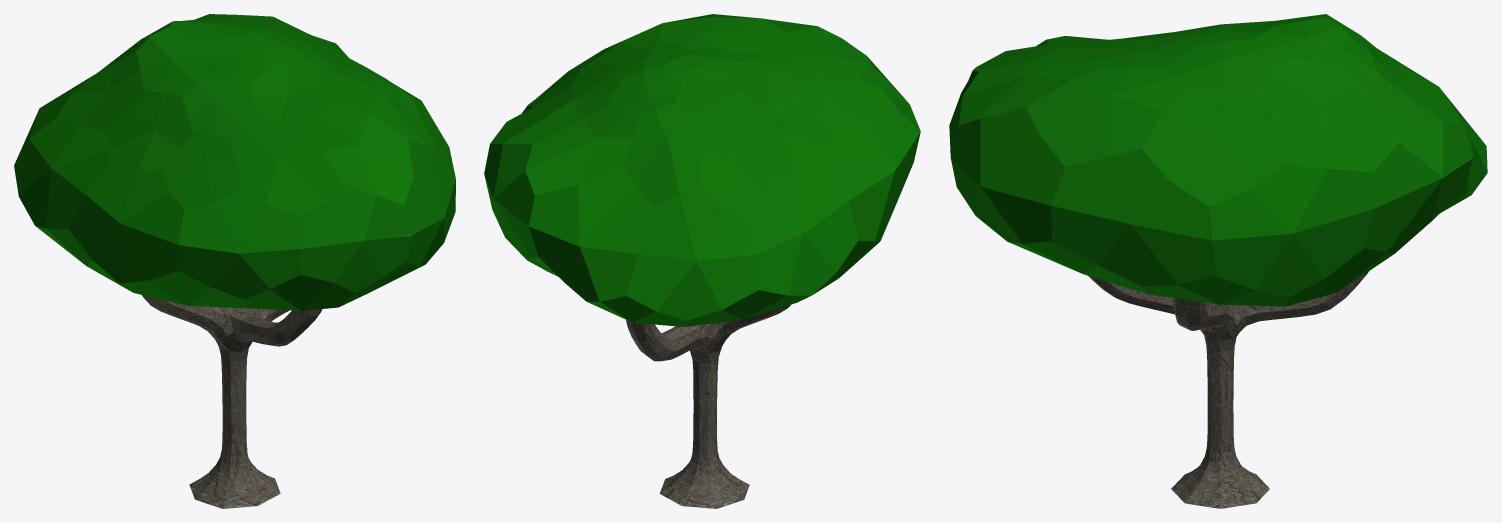
File: GreenTree.fbx
3 renders of one model, left to right at view 1: azimuth 30°, elevation 25°; view 2: azimuth 150°, elevation 25°; view 3: azimuth 270°, elevation 25°, orthographic. The views are drawn at different scales.
Visible parts, largest first — view 1: GreenTree; view 2: GreenTree; view 3: GreenTree.
Part boxes in pixels (bbox=[...]): GreenTree: bbox=[14, 14, 455, 508]; GreenTree: bbox=[484, 14, 920, 508]; GreenTree: bbox=[949, 14, 1487, 508].
Bounding box in the file's own units: 799 × 639 × 767.
